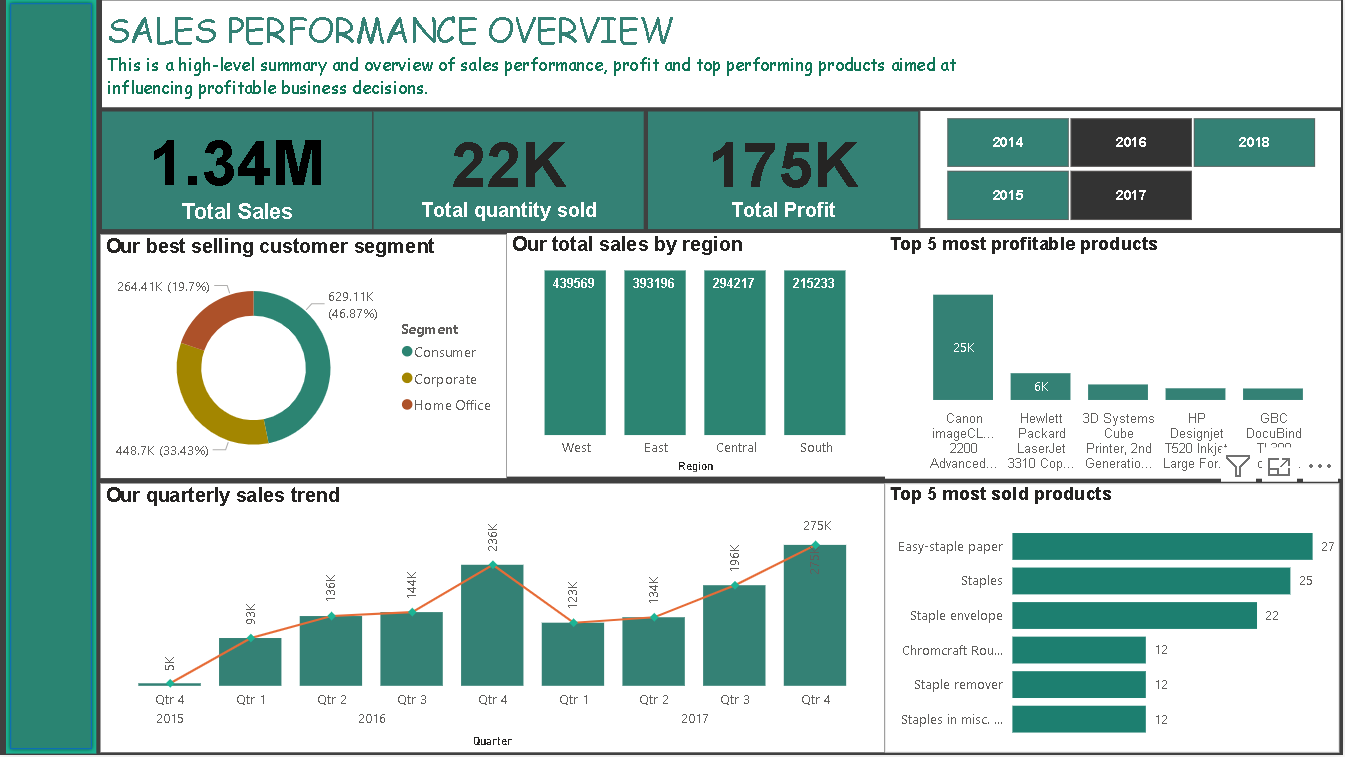

The dashboard page shown, as its layout file describes it:
{"tool":"powerbi","page":{"name":"Page 1","canvas":[1280,720],"ordinal":0},"visuals":[{"type":"hundredPercentStackedColumnChart","title":"Our total sales by region","fields":{"Category":["Sample - Superstore.Region"],"Y":["Sum(Sample - Superstore.Sales)"]},"box":[483.2,222.6,360,232.1],"z":0},{"type":"donutChart","title":"Our best selling customer segment","fields":{"Category":["Sample - Superstore.Segment"],"Y":["Sum(Sample - Superstore.Sales)"]},"box":[96.3,224.2,386.8,232.1],"z":1000},{"type":"columnChart","title":"Top 5 most profitable products","fields":{"Category":["Sample - Superstore.Product Name"],"Y":["Sum(Sample - Superstore.Profit)"]},"box":[843.2,222.6,434.2,233.7],"z":2000},{"type":"shape","box":[6.1,0,85.8,718.5],"z":3000},{"type":"lineClusteredColumnComboChart","title":"Our quarterly sales trend","fields":{"Category":["Sample - Superstore.Order Date.Variation.Date Hierarchy.Year","Sample - Superstore.Order Date.Variation.Date Hierarchy.Quarter"],"Y":["Sum(Sample - Superstore.Sales)"],"Y2":["Sum(Sample - Superstore.Sales)"]},"box":[96.3,461.1,746.9,255.8],"z":4000},{"type":"shape","box":[96.7,1.7,1180,101.7],"z":5000},{"type":"card","title":"Total Sales","fields":{"Values":["Sum(Sample - Superstore.Sales)"]},"box":[97.1,106.8,257.4,111.7],"z":6000},{"type":"card","fields":{"Values":["Sum(Sample - Superstore.Profit)"]},"box":[616.8,106.8,257.4,111.7],"z":7000},{"type":"card","fields":{"Values":["Sum(Sample - Superstore.Quantity)"]},"box":[356.2,106.8,257.4,111.7],"z":8000},{"type":"slicer","fields":{"Values":["Sample - Superstore.Ship Date.Variation.Date Hierarchy.Year"]},"box":[875.8,105.2,401.5,113.3],"z":9000},{"type":"textbox","box":[96.7,1.7,818.3,113.3],"z":10000},{"type":"barChart","title":"Top 5 most sold products","fields":{"Category":["Sample - Superstore.Product Name"],"Y":["CountNonNull(Sample - Superstore.Sales)"]},"box":[843.2,461.1,432.6,255.8],"z":11000}]}

Visuals, with their boxes in screenshot pixels (x1, y1, x2, y2), scaled from the page's 1280x720 canvas onto the 1345x757 screenshot:
"Our total sales by region" hundredPercentStackedColumnChart: 508/234/886/478
"Our best selling customer segment" donutChart: 101/236/508/480
"Top 5 most profitable products" columnChart: 886/234/1342/480
shape: 6/0/97/755
"Our quarterly sales trend" lineClusteredColumnComboChart: 101/485/886/754
shape: 102/2/1342/109
"Total Sales" card: 102/112/373/230
card - Sum(Sample - Superstore.Profit): 648/112/919/230
card - Sum(Sample - Superstore.Quantity): 374/112/645/230
slicer - Sample - Superstore.Ship Date.Variation.Date Hierarchy.Year: 920/111/1342/230
textbox: 102/2/961/121
"Top 5 most sold products" barChart: 886/485/1341/754
